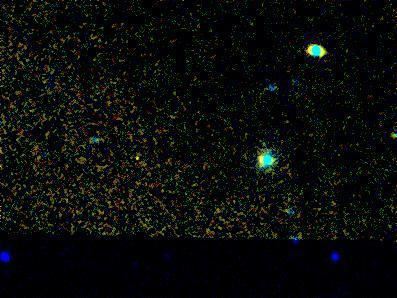star: (124, 141, 154, 171)
